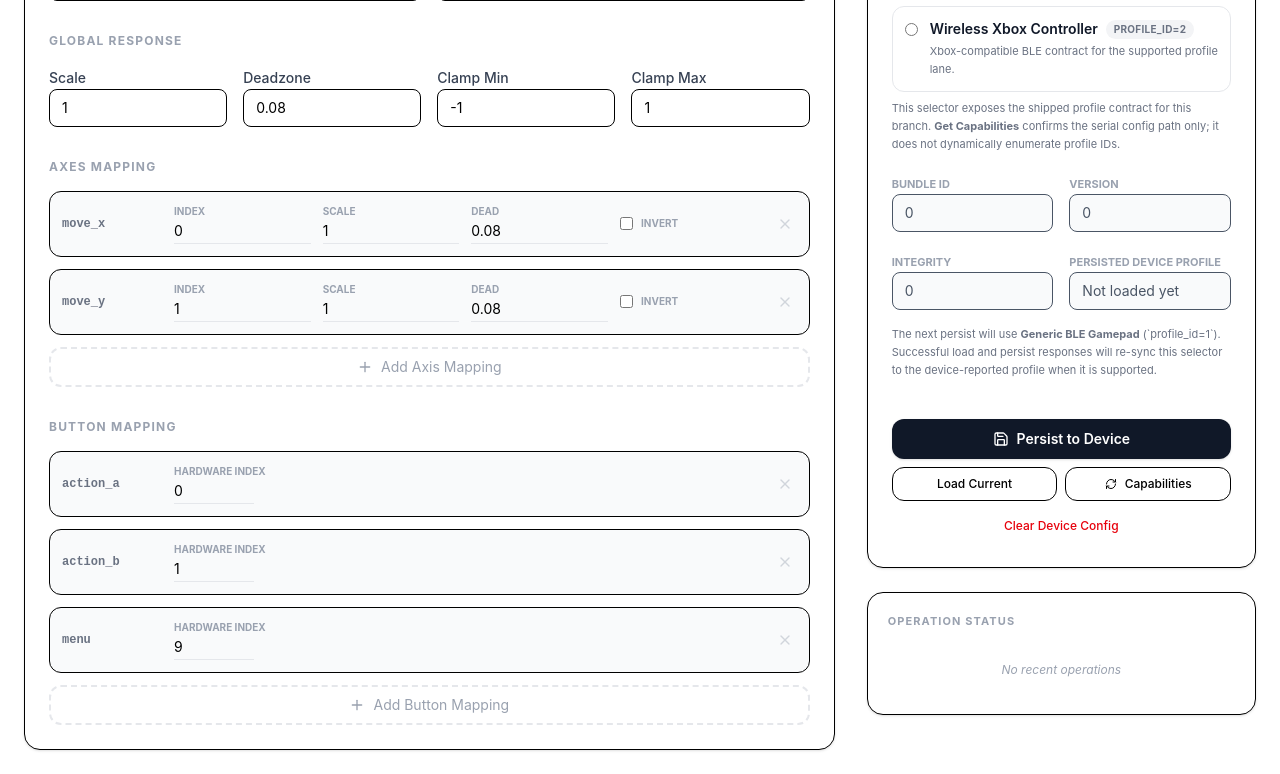
Scenario: ConfigView › shows an error if load returns an unsupported profile id
(page scrolled)
Click the button "Load Current".
click(975, 484)  # box [892, 467, 1057, 501]
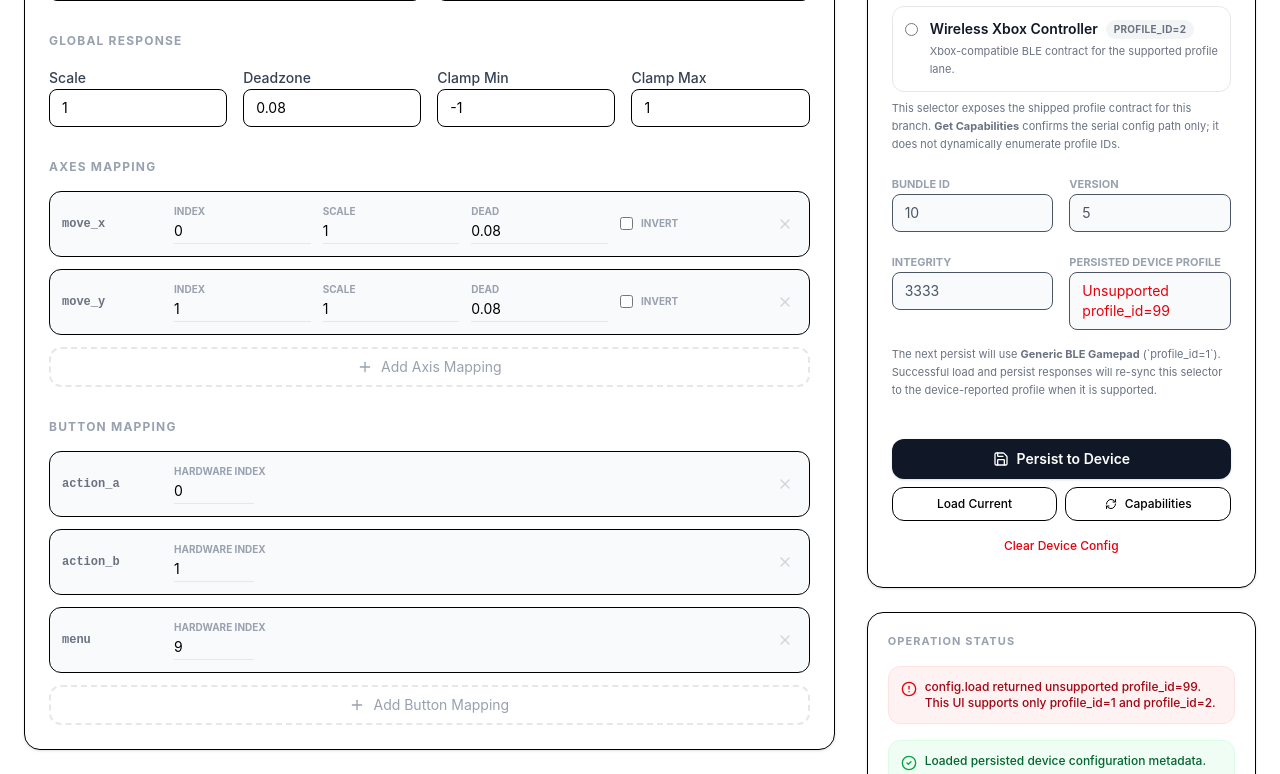
Now the text "config.load returned unsupported profile_id=99" is shown, box [925, 679, 1216, 710]
Now the text "Unsupported profile_id=99" is shown, box [1082, 282, 1170, 319]
